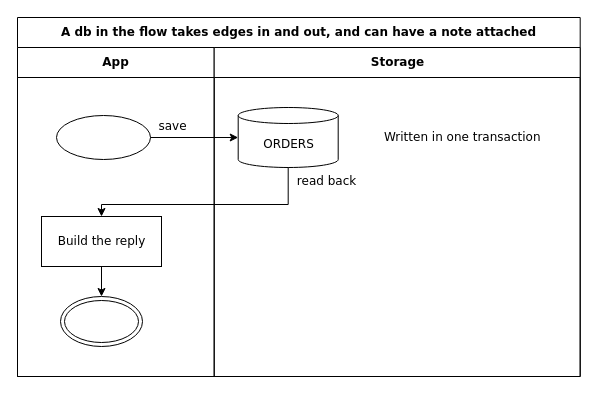
This 598x394 diagram has some shape labels left out. Each missing label, with the box of its shape:
Done: (60, 296, 142, 346)
Request: (56, 114, 150, 160)
